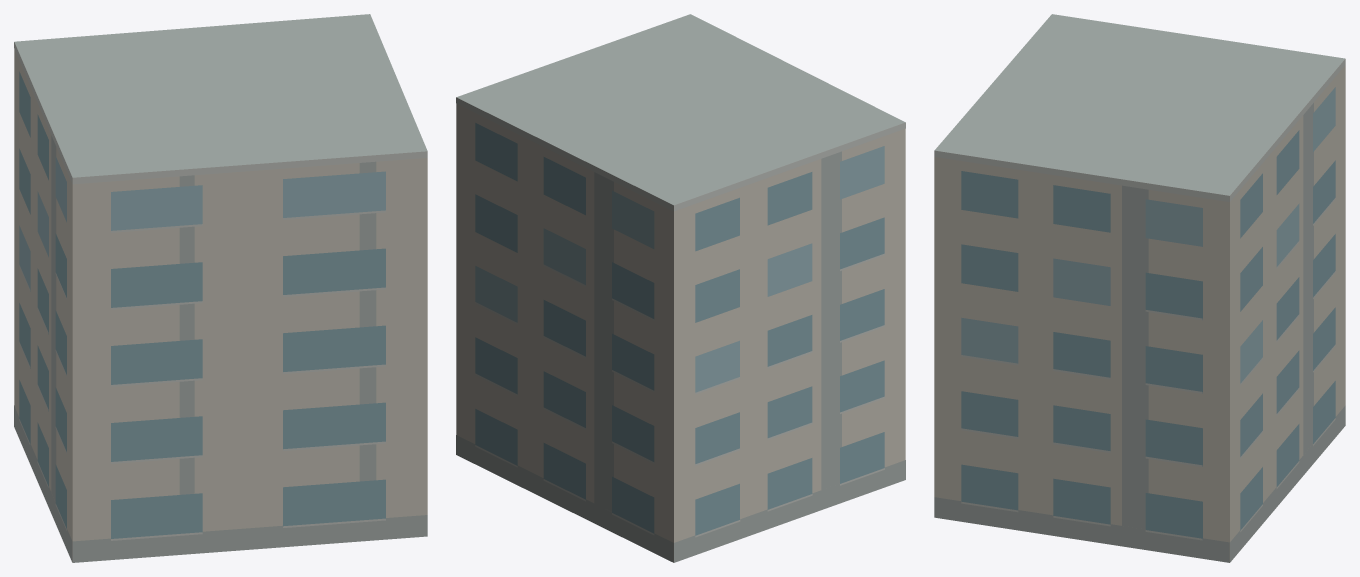
Rendered from survey-upis-32854248.glb.
3 views of the same model, side by side, from view 1: azimuth 30°, elevation 25°; view 2: azimuth 150°, elevation 25°; view 3: azimuth 270°, elevation 25° (orthographic). The views are drawn at different scales.
Parts seen in each view (by area): view 1: survey-upis-32854248.tmp; view 2: survey-upis-32854248.tmp; view 3: survey-upis-32854248.tmp.
Part boxes in pixels (box(x1,y1,x2,y2)): survey-upis-32854248.tmp: box(14, 14, 427, 562); survey-upis-32854248.tmp: box(456, 14, 905, 562); survey-upis-32854248.tmp: box(934, 14, 1345, 562).
Bounding box in the file's own units: 15.1 × 14.2 × 14.43.
